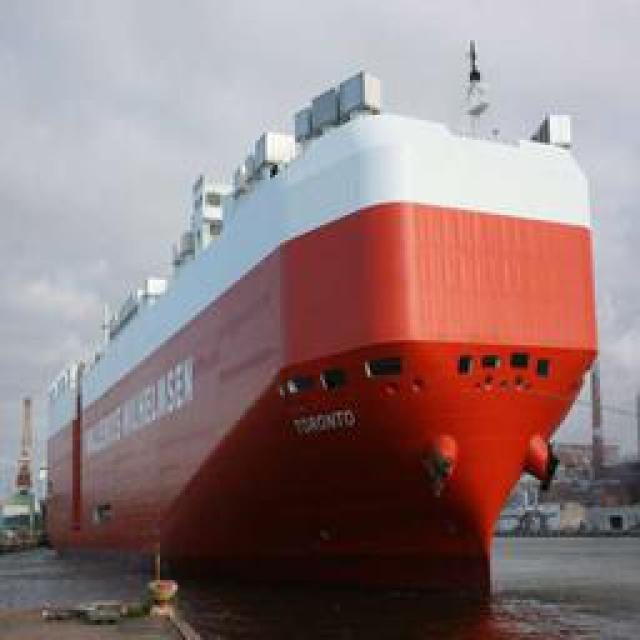Ship: (12, 34, 617, 621)
